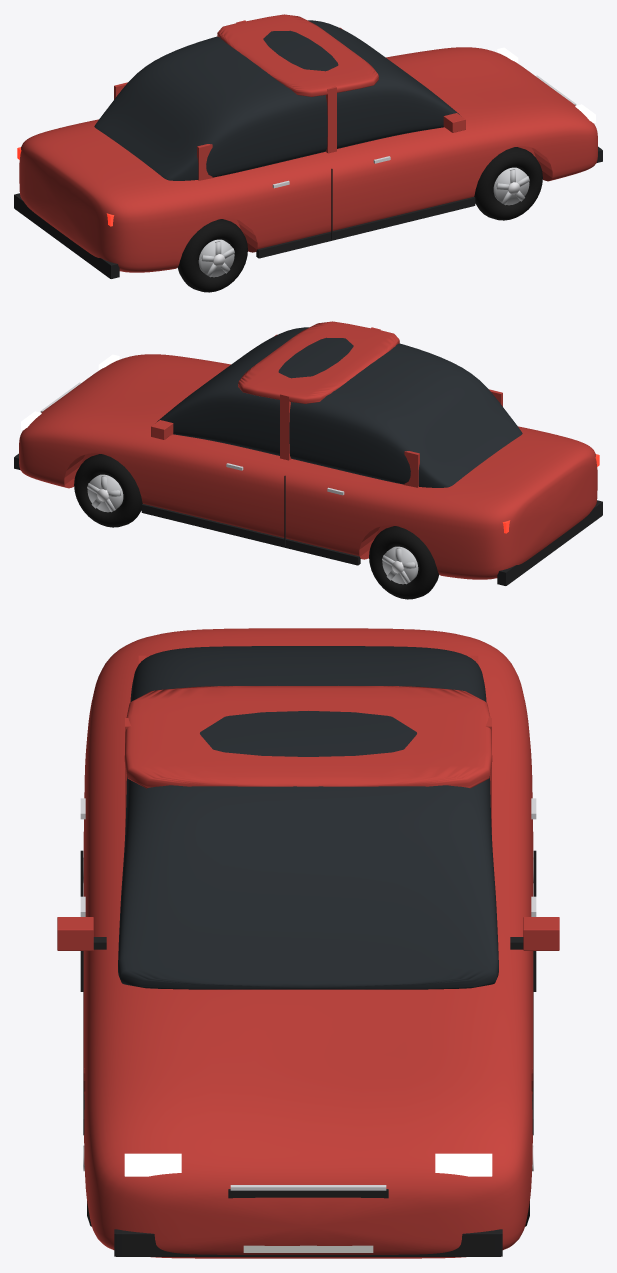
The model's file is fleet_sedan.glb.
The picture shows the model from 3 angles, top to bottom: view 1: azimuth 30°, elevation 25°; view 2: azimuth 150°, elevation 25°; view 3: azimuth 270°, elevation 25°; orthographic projection. The views are drawn at different scales.
Visible parts, largest first — view 1: Body, Glass, Hub.003, Hub.002; view 2: Body, Glass, Hub.001, Hub; view 3: Body, Glass, Headlight.
Part boxes in pixels (<box>): Body: <box>14,14,602,278</box>; Glass: <box>94,20,459,180</box>; Hub.003: <box>177,219,247,292</box>; Hub.002: <box>474,147,542,220</box>; Body: <box>14,321,602,585</box>; Glass: <box>157,327,522,487</box>; Hub.001: <box>369,526,439,599</box>; Hub: <box>74,454,142,527</box>; Body: <box>57,628,559,1258</box>; Glass: <box>118,646,498,989</box>; Headlight: <box>124,1153,492,1176</box>.
Bounding box in the file's own units: 4.44 × 1.47 × 1.94.
